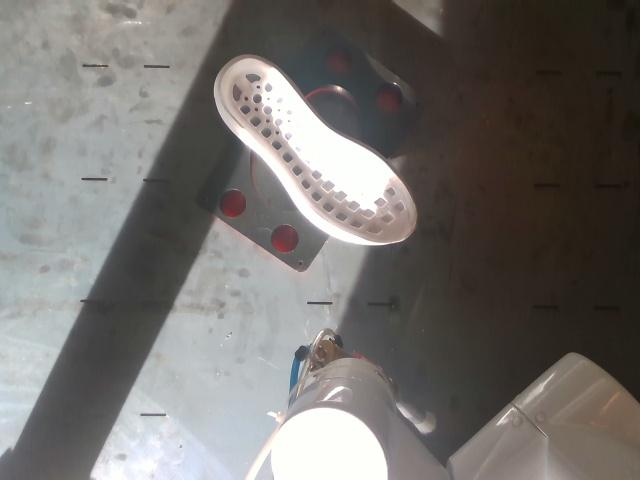shoes: (221, 58, 417, 243)
